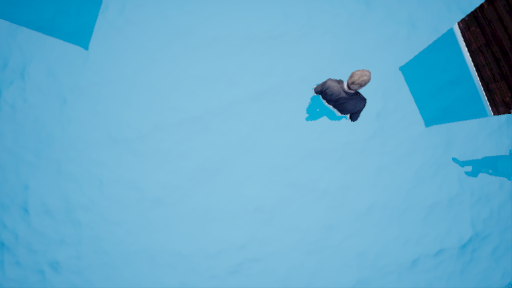person: (301, 64, 379, 140)
